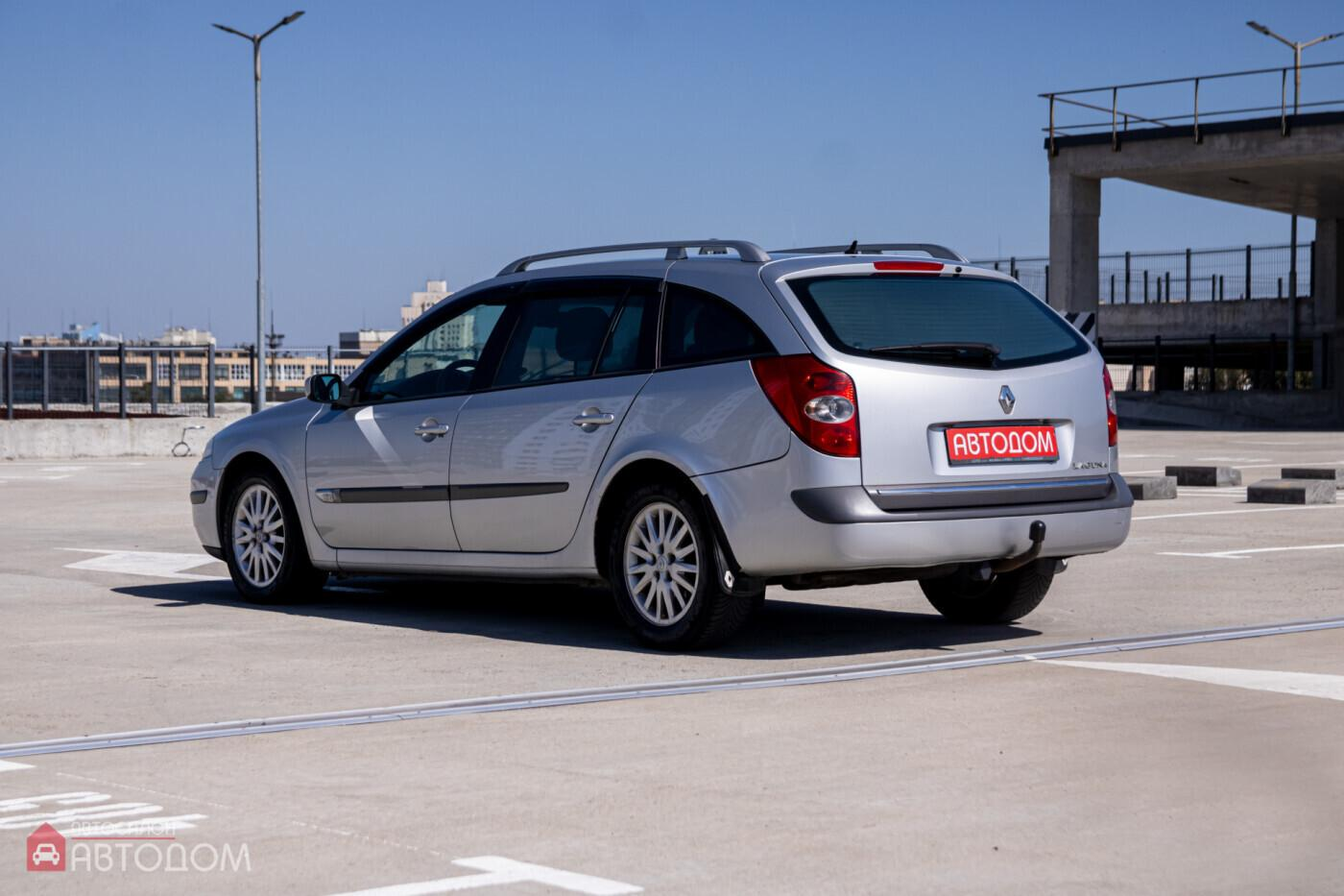Laguna_2005-2007: (187, 242, 1141, 642)
